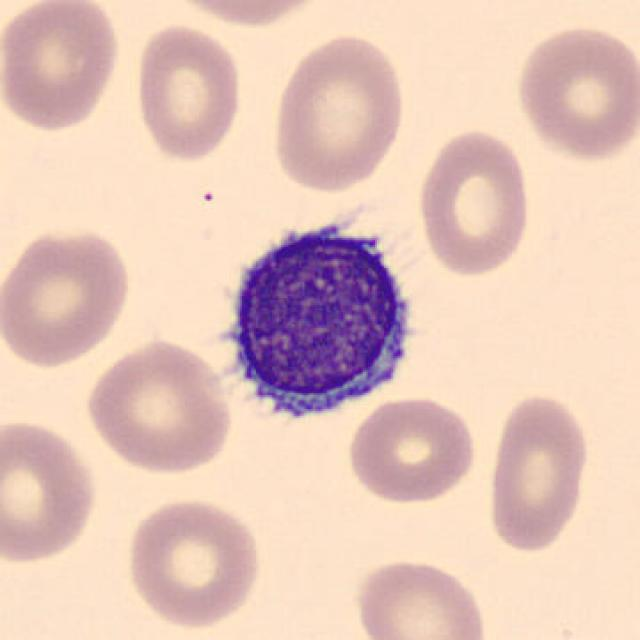Lymphocyte: (204, 201, 428, 439)
RBC: (267, 30, 409, 196), (82, 335, 236, 478), (0, 222, 137, 370), (121, 494, 267, 631), (413, 124, 535, 278), (482, 390, 594, 557), (510, 19, 638, 164), (130, 19, 245, 164), (0, 0, 124, 134), (343, 391, 480, 508), (0, 416, 101, 566), (350, 553, 492, 640), (158, 0, 332, 30)
